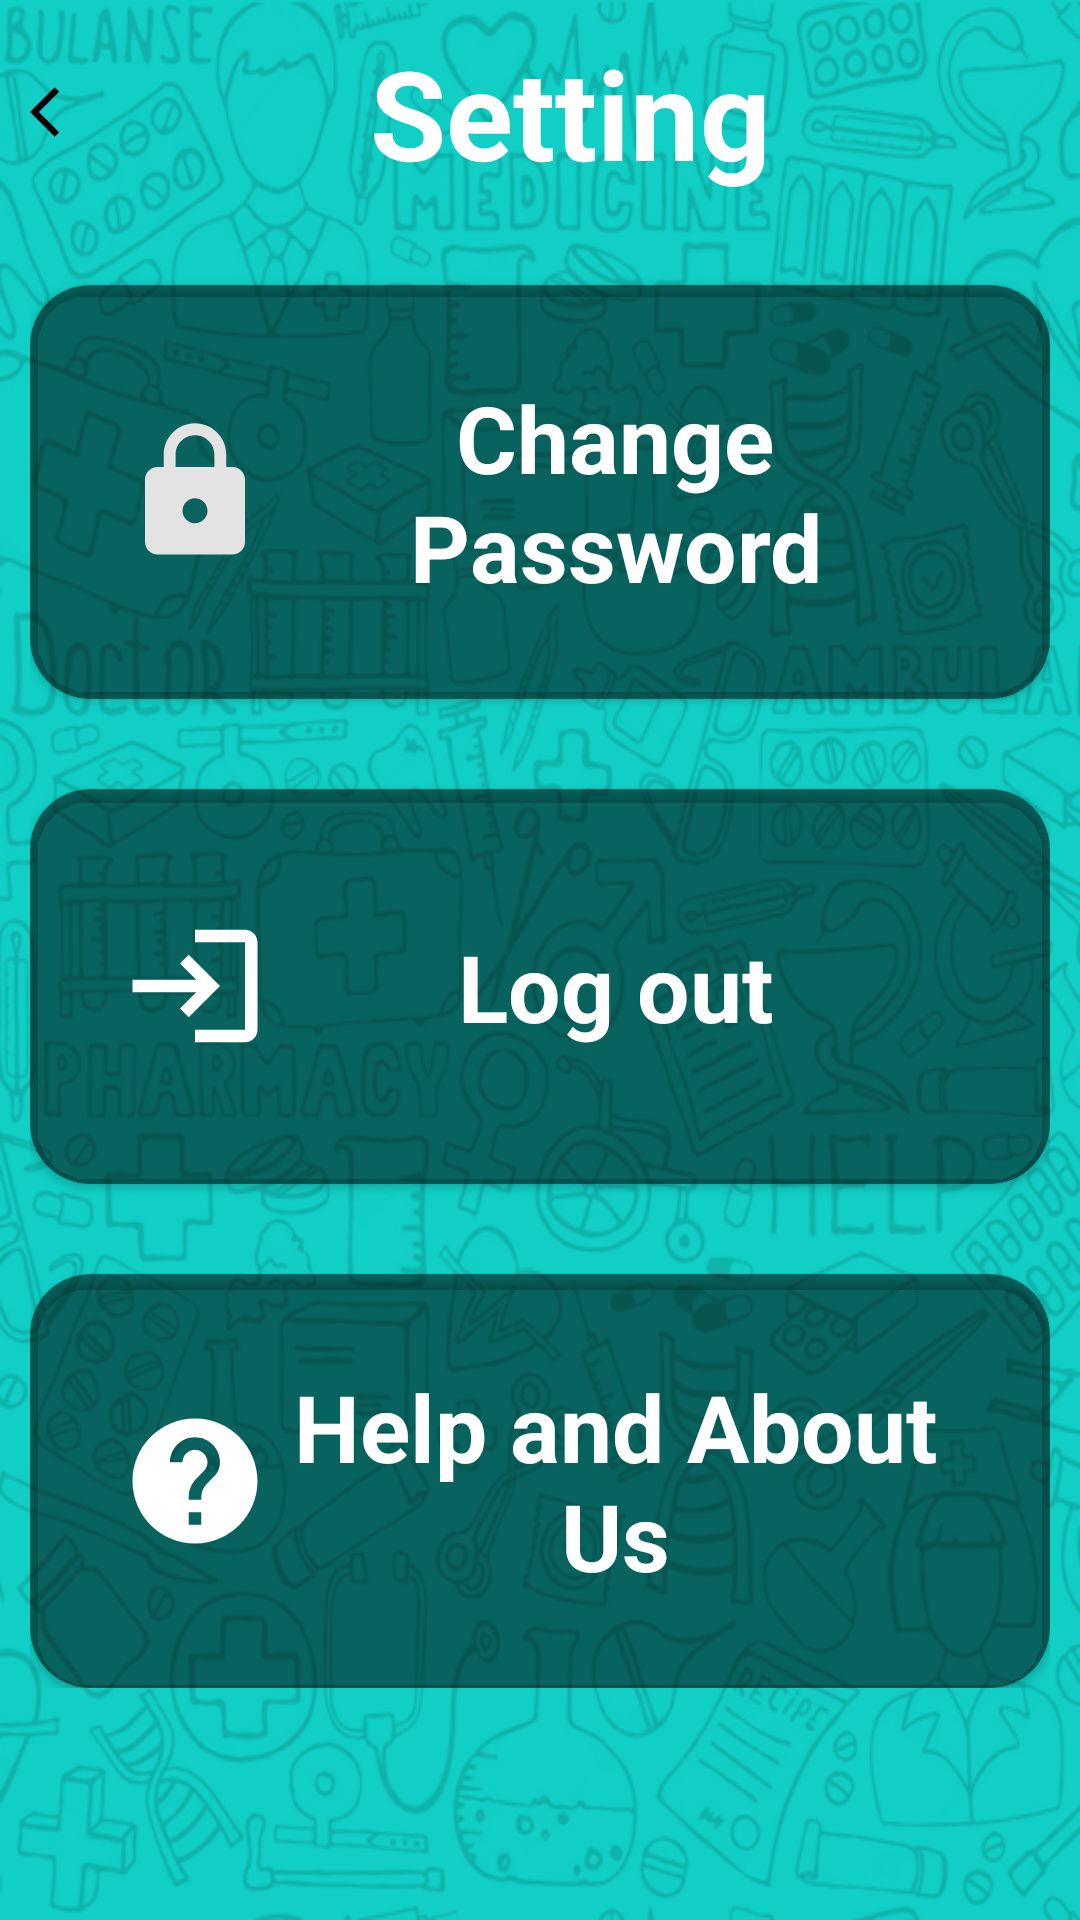

Screen size 1080w x 1920h. Icon name, then its box in pixels as detection(x1, y1, x2, y2):
back: detection(30, 82, 90, 142)
lock: detection(145, 423, 245, 555)
login: detection(132, 929, 258, 1043)
